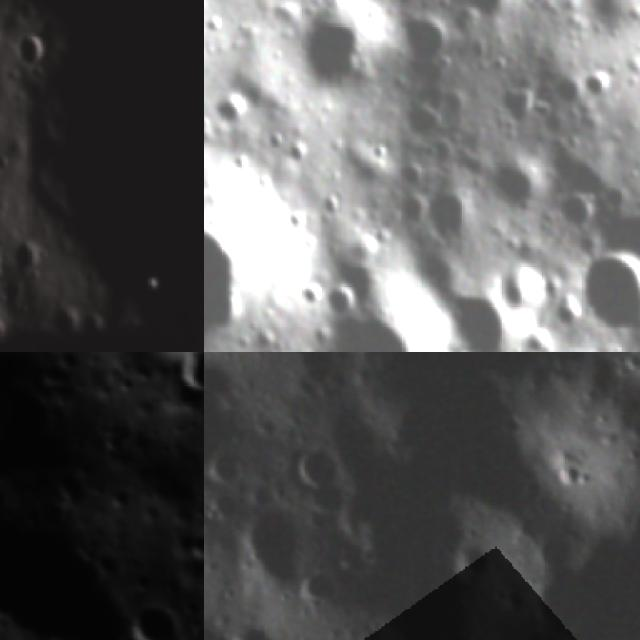crater: (0, 0, 204, 335), (0, 469, 146, 640), (204, 163, 287, 352), (290, 274, 450, 352), (429, 265, 548, 352), (283, 1, 388, 98), (0, 357, 84, 463), (560, 240, 640, 349), (227, 500, 307, 590), (415, 185, 486, 261), (390, 4, 465, 74), (481, 152, 550, 222), (488, 260, 550, 318), (122, 593, 190, 640), (548, 182, 604, 239), (294, 562, 348, 616), (294, 441, 350, 493), (204, 439, 252, 499), (445, 538, 498, 592), (313, 267, 364, 323), (573, 62, 625, 111), (433, 0, 534, 25), (209, 88, 257, 134), (543, 68, 583, 119), (8, 30, 50, 74), (171, 352, 204, 407), (221, 613, 288, 640), (44, 306, 82, 342), (11, 245, 47, 279), (204, 481, 220, 526)
